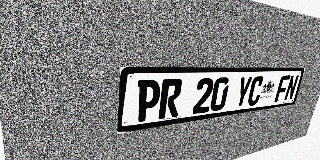0: (209, 77, 230, 112)
2: (192, 78, 215, 114)
C: (246, 76, 265, 106)
F: (274, 75, 291, 102)
N: (283, 75, 299, 101)
P: (135, 79, 162, 123)
R: (158, 79, 183, 119)
Y: (233, 76, 253, 108)
